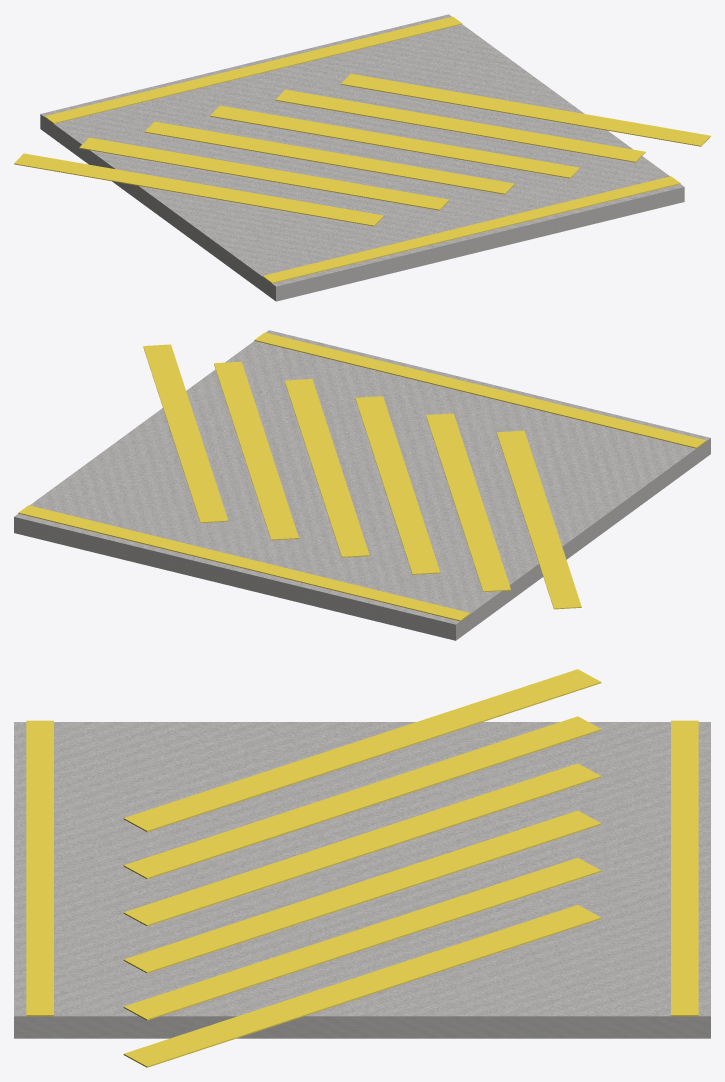
Rendered from shipyard-and-dry-dock-shipyard-and-dry-dock-yard-apron-d3c42c7a__37912.glb.
3 renders of one model, top to bottom at view 1: azimuth 30°, elevation 25°; view 2: azimuth 150°, elevation 25°; view 3: azimuth 270°, elevation 25°, orthographic. The views are drawn at different scales.
Parts seen in each view (by area): view 1: shipyard-and-dry-dock-yard-apron-slab-hatched; view 2: shipyard-and-dry-dock-yard-apron-slab-hatched; view 3: shipyard-and-dry-dock-yard-apron-slab-hatched.
Boxes of the visible parts, x1,y1,x2,y2 form: shipyard-and-dry-dock-yard-apron-slab-hatched: [14, 14, 710, 301]; shipyard-and-dry-dock-yard-apron-slab-hatched: [14, 330, 710, 640]; shipyard-and-dry-dock-yard-apron-slab-hatched: [14, 669, 710, 1067].
Size of the model in its own units: 5.4 by 0.148 by 4.
2 materials, 1 textured.
